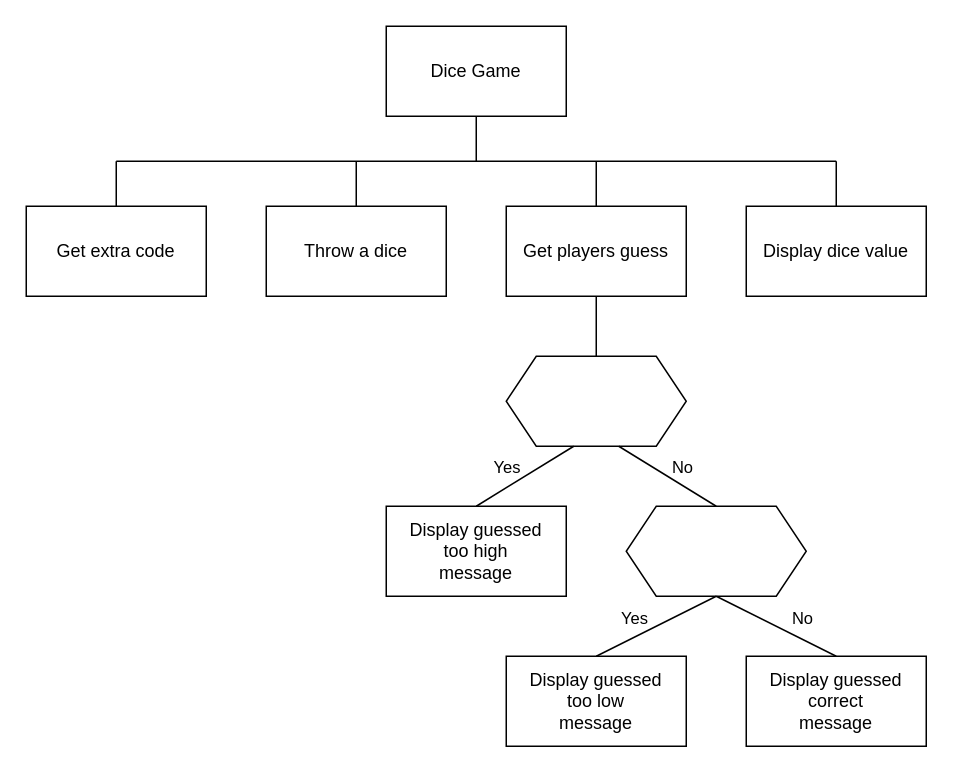
Image size: 953x773. Some labels were removed from this diagram. Here are the shapes that lost their labels. From the top down, the box of each, then its label:
(505, 355, 686, 446): Too high?
(625, 505, 806, 596): Too low?
